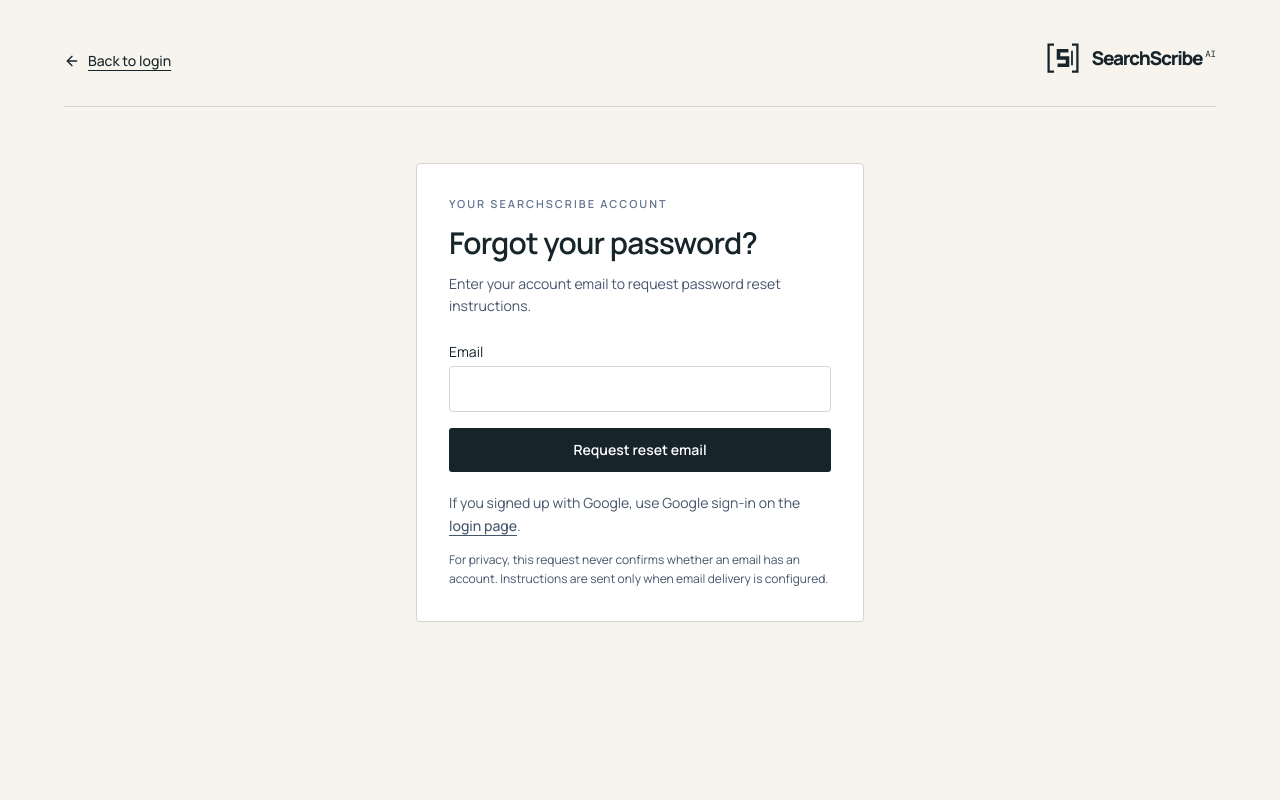
forgot password › validates email before requesting instructions and uses a neutral success message
Click the button "Request reset email". click: (640, 450)
box: [449,428,831,472]
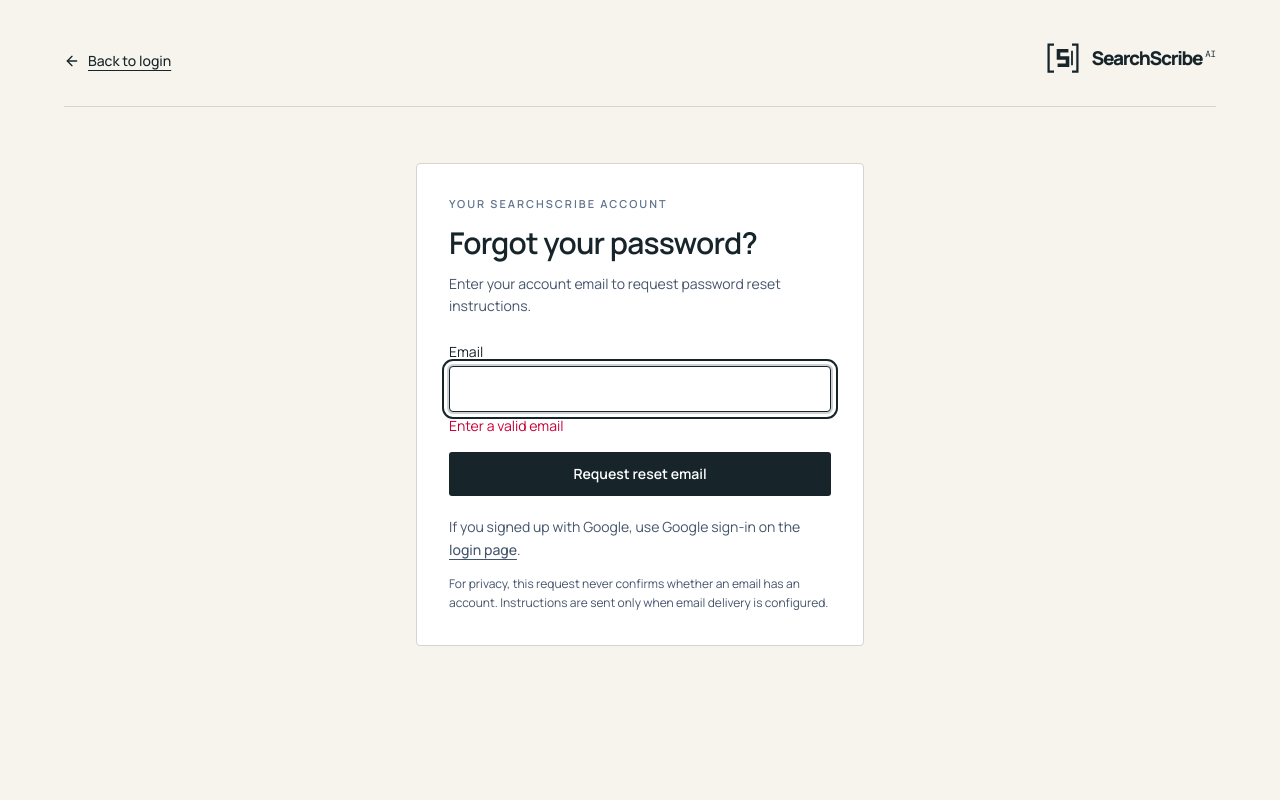
Result: the text "Enter a valid email" is shown at [449,416,564,435]
Type "writer@example.com" into the field labelled "Email". click: (640, 389)
box: [449,366,831,412]
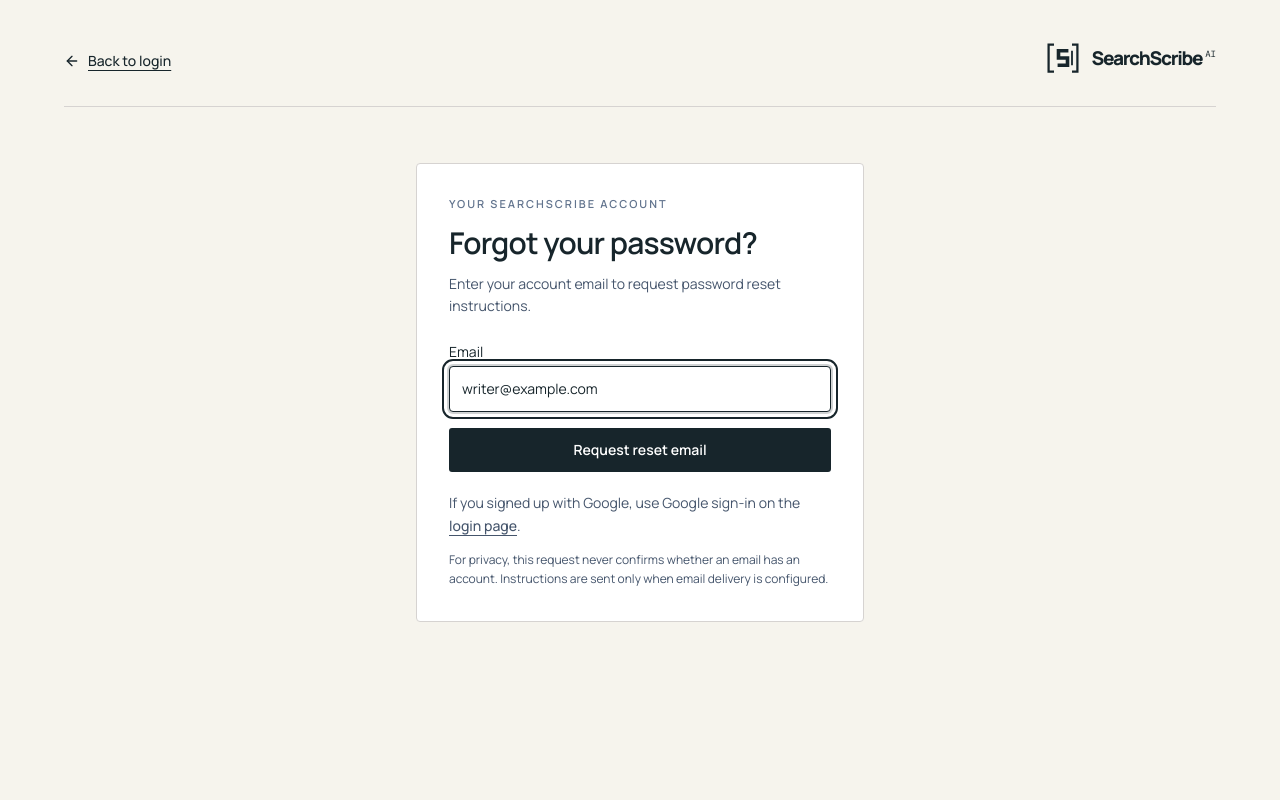
Click the button "Request reset email". click: (640, 450)
box: [449,428,831,472]
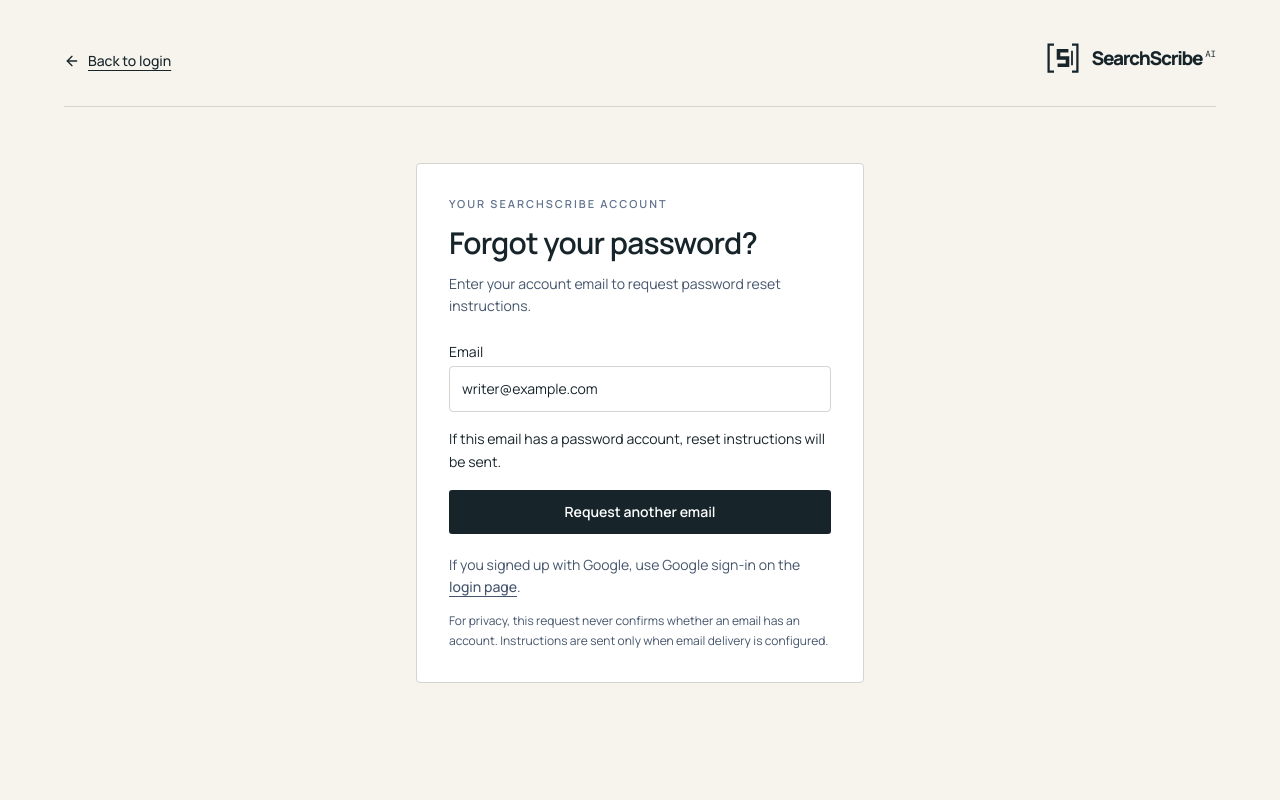
Result: the message shows "If this email has a password account" at [449,429,825,471]
